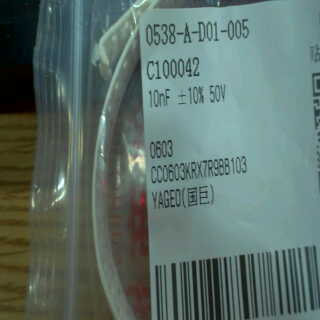10nF: (148, 86, 175, 110)
